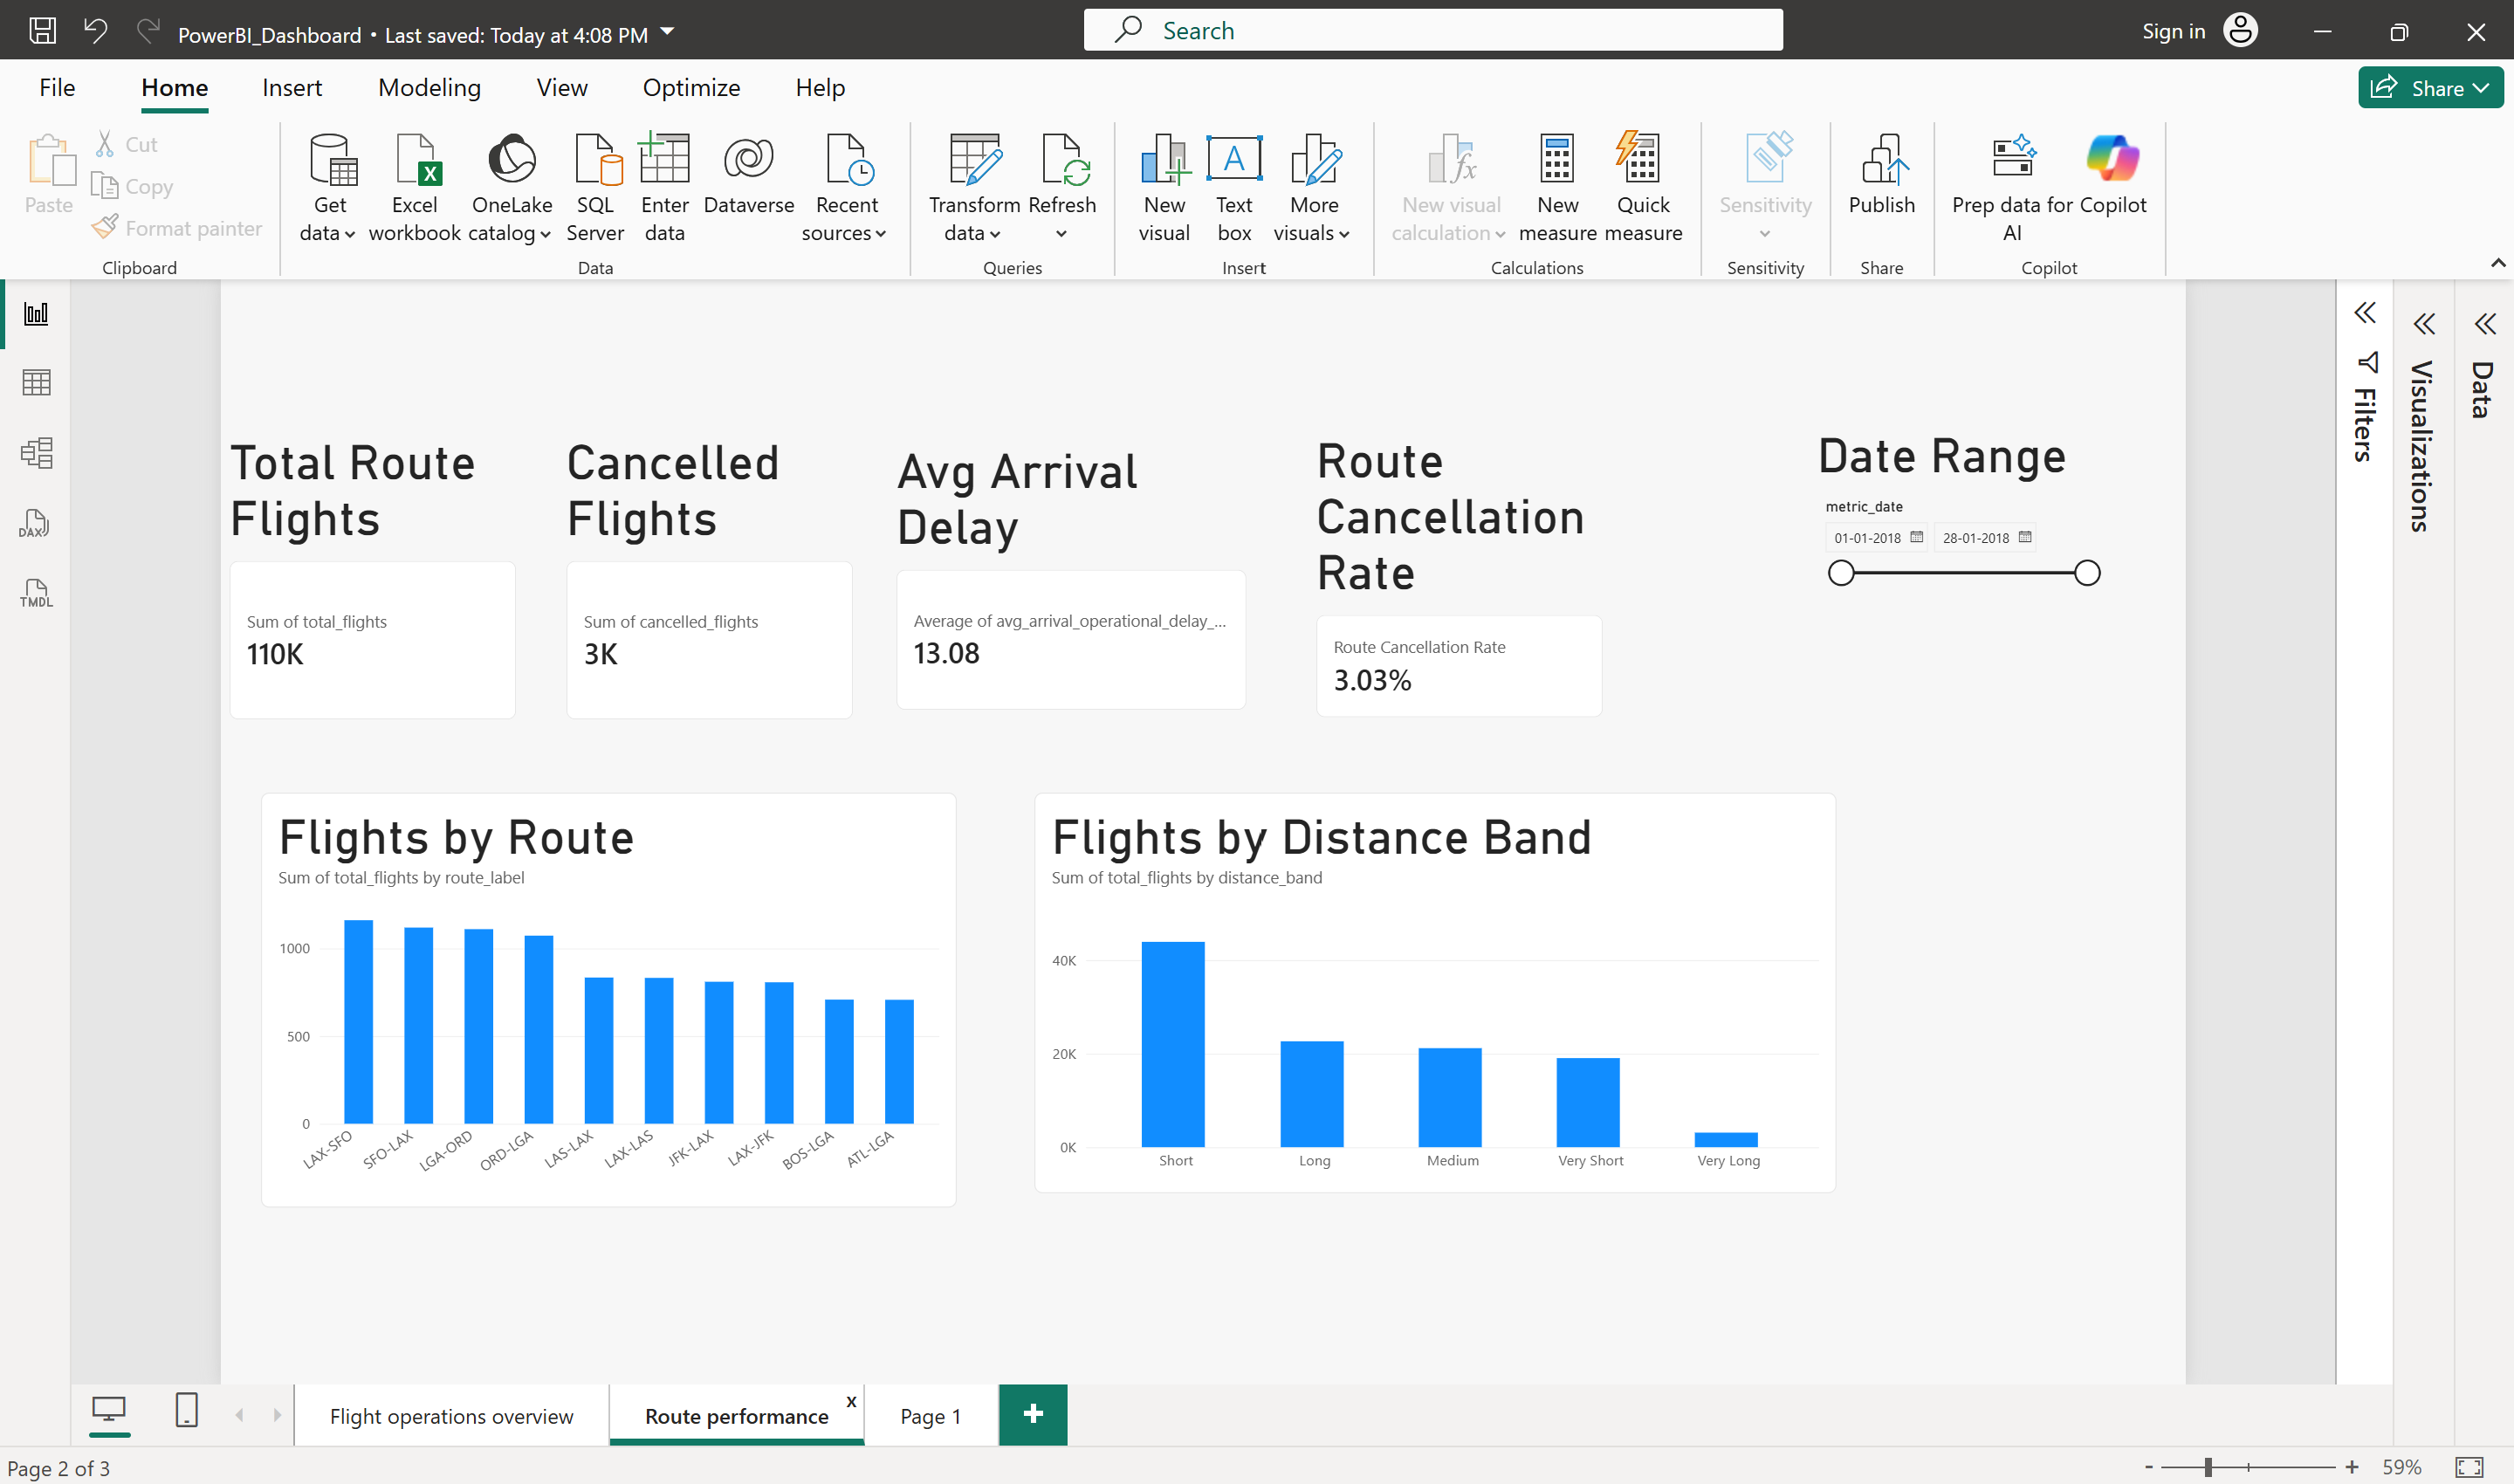

Layout of this report page (visuals, bound fields, positions):
{"tool":"powerbi","page":{"name":"Route performance","canvas":[1920,1080],"ordinal":1},"visuals":[{"type":"cardVisual","title":"Total Route Flights","fields":{"Data":["Sum(Gold_Route_Daily.total_flights)"]},"box":[9.4,150,280,280],"z":0},{"type":"cardVisual","title":"Cancelled Flights","fields":{"Data":["Sum(Gold_Route_Daily.cancelled_flights)"]},"box":[337.6,150,280,280],"z":1000},{"type":"cardVisual","title":"Route Cancellation Rate","fields":{"Data":["Gold_Airports.Route Cancellation Rate"]},"box":[1069,147.7,280,280],"z":1001},{"type":"cardVisual","title":"Avg Arrival Delay","fields":{"Data":["Avg(Gold_Route_Daily.avg_arrival_operational_delay_minutes)"]},"box":[661.1,159.4,342.3,262.6],"z":1002},{"type":"clusteredColumnChart","title":"Flights by Route","fields":{"Category":["Gold_Route_Daily.route_label"],"Y":["Sum(Gold_Route_Daily.total_flights)"]},"box":[39.9,501.7,679.9,405.6],"z":1003},{"type":"clusteredColumnChart","title":"Flights by Distance Band","fields":{"Category":["Gold_Routes.distance_band"],"Y":["Sum(Gold_Route_Daily.total_flights)"]},"box":[794.7,501.7,783,391.5],"z":1004},{"type":"slicer","title":"Date Range","fields":{"Values":["Gold_Route_Daily.metric_date"]},"box":[1559,143,280,280],"z":1005}]}

Visuals, with their boxes on the page's 1920x1080 design canvas (x1, y1, x2, y2). These are canvas units, not pixel positions in the 2514x1484 screenshot, which may show the page scaled, cropped or inside an application window:
"Total Route Flights" cardVisual: [9,150,289,430]
"Cancelled Flights" cardVisual: [338,150,618,430]
"Route Cancellation Rate" cardVisual: [1069,148,1349,428]
"Avg Arrival Delay" cardVisual: [661,159,1003,422]
"Flights by Route" clusteredColumnChart: [40,502,720,907]
"Flights by Distance Band" clusteredColumnChart: [795,502,1578,893]
"Date Range" slicer: [1559,143,1839,423]
